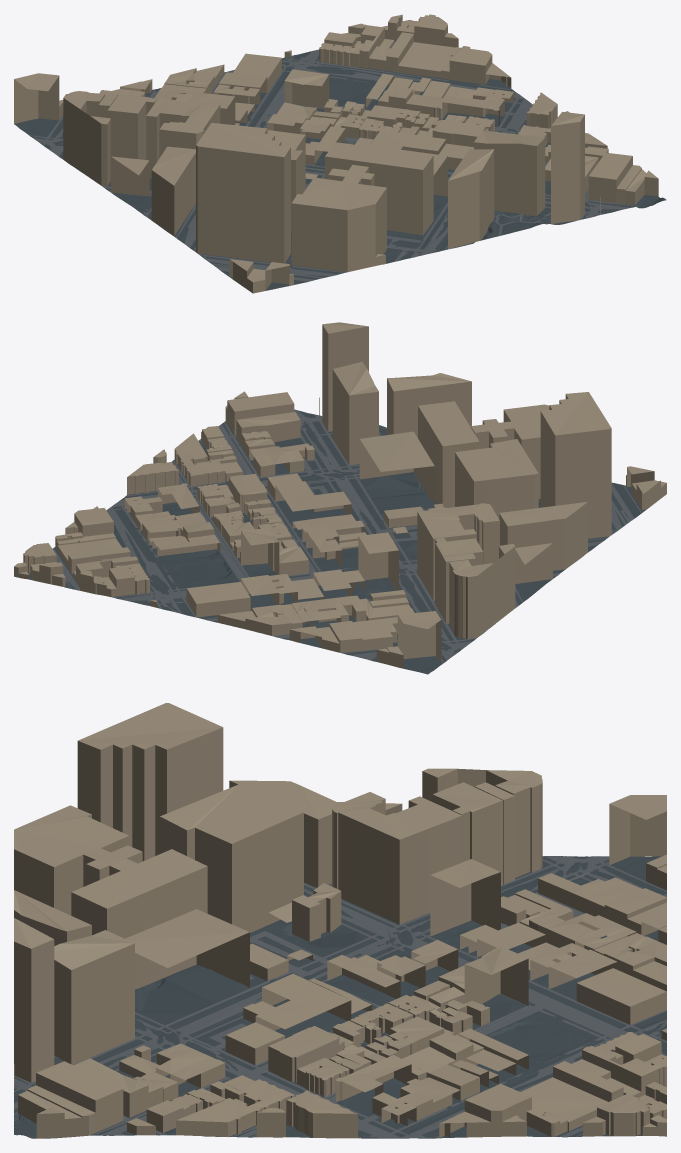
Rendered from epsg26910-1436-10888.lod0.glb.
3 views of the same model, one above another, from view 1: azimuth 30°, elevation 25°; view 2: azimuth 150°, elevation 25°; view 3: azimuth 270°, elevation 25° (orthographic). The views are drawn at different scales.
Parts seen in each view (by area): view 1: epsg26910-1436-10888-lod0; view 2: epsg26910-1436-10888-lod0; view 3: epsg26910-1436-10888-lod0.
Boxes of the visible parts, x1=… form: epsg26910-1436-10888-lod0: x1=14, y1=14, x2=666, y2=293; epsg26910-1436-10888-lod0: x1=14, y1=322, x2=666, y2=674; epsg26910-1436-10888-lod0: x1=14, y1=703, x2=666, y2=1138.
Size of the model in its own units: 384 by 104 by 384.
